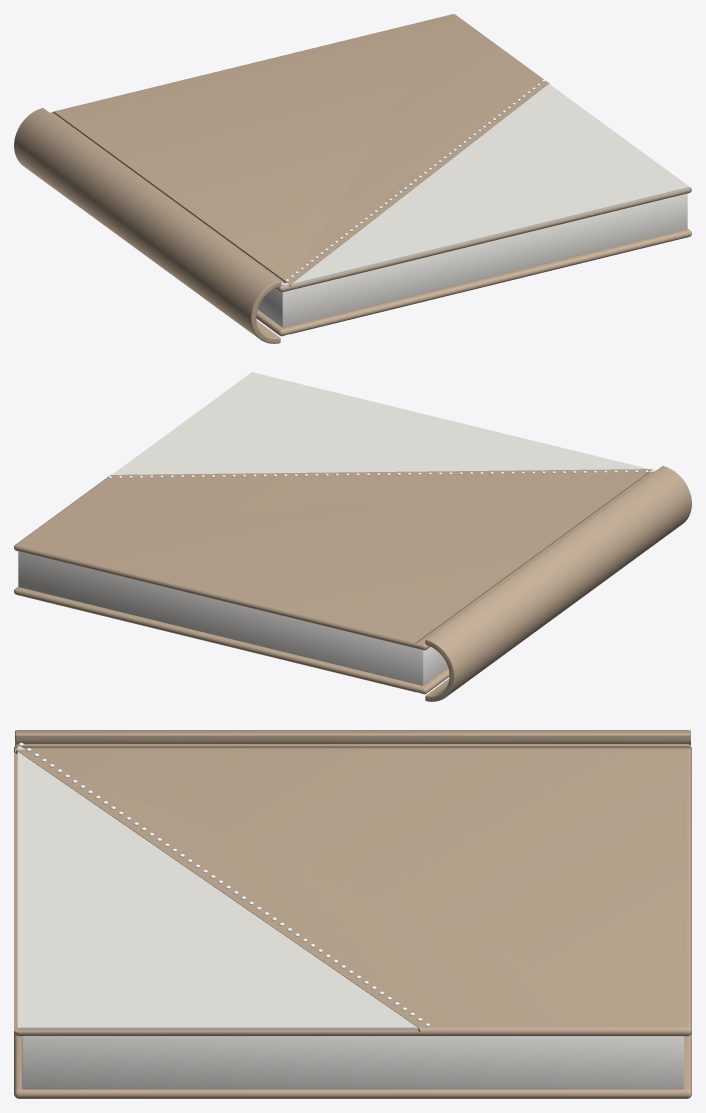
File: oblique--square.glb
3 views of the same model, one above another, from view 1: azimuth 30°, elevation 25°; view 2: azimuth 150°, elevation 25°; view 3: azimuth 270°, elevation 25° (orthographic). The views are drawn at different scales.
Parts seen in each view (by area): view 1: CoverFront, Band, Spine, Pages, CoverBack, Crystal; view 2: CoverFront, Band, Spine, Pages, CoverBack, Crystal; view 3: CoverFront, Band, Pages, Spine, CoverBack, Crystal.
Part boxes in pixels (box(x1,y1,x2,y2)): CoverFront: box(50, 14, 691, 292); Band: box(284, 84, 689, 286); Spine: box(14, 108, 280, 343); Pages: box(258, 193, 687, 327); CoverBack: box(256, 229, 691, 336); Crystal: box(280, 79, 544, 285); CoverFront: box(14, 469, 651, 650); Band: box(112, 372, 655, 474); Spine: box(425, 466, 691, 701); Pages: box(18, 551, 447, 685); CoverBack: box(14, 587, 449, 694); Crystal: box(108, 470, 656, 478); CoverFront: box(14, 744, 691, 1036); Band: box(17, 746, 418, 1030); Pages: box(22, 1036, 683, 1089); Spine: box(15, 730, 690, 745); CoverBack: box(14, 1033, 691, 1098); Crystal: box(18, 742, 429, 1026).
Bounding box in the file's own units: 0.3208 × 0.043 × 0.3.
